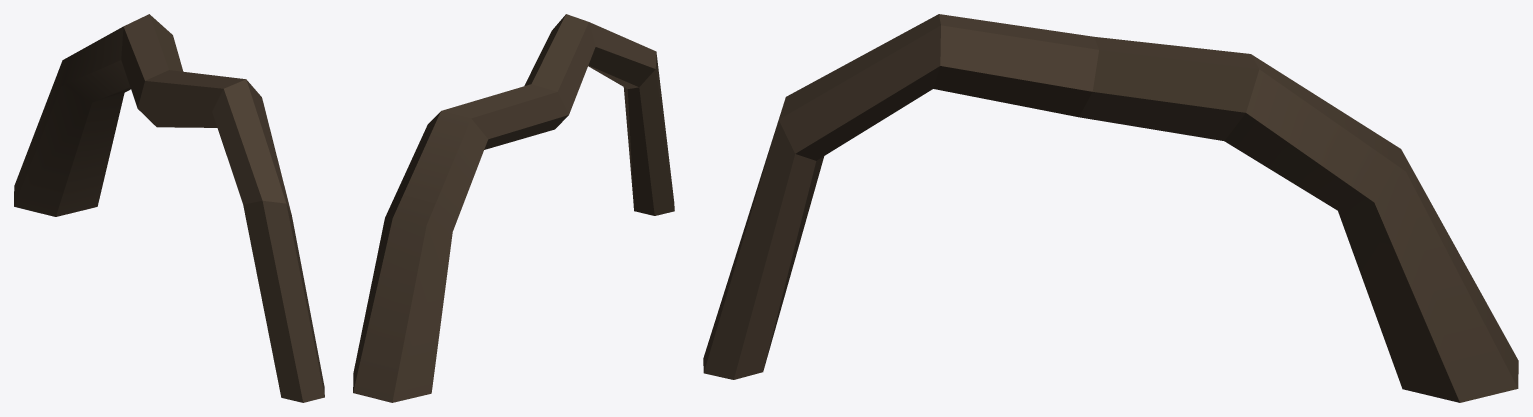
File: SM_Tree_Swamp_Root_01.glb
3 views of the same model, side by side, from view 1: azimuth 30°, elevation 25°; view 2: azimuth 150°, elevation 25°; view 3: azimuth 270°, elevation 25° (orthographic). The views are drawn at different scales.
Visible parts, largest first — view 1: SM_Tree_Swamp_Root_01; view 2: SM_Tree_Swamp_Root_01; view 3: SM_Tree_Swamp_Root_01.
Boxes of the visible parts, x1,y1,x2,y2 form: SM_Tree_Swamp_Root_01: [14, 14, 324, 402]; SM_Tree_Swamp_Root_01: [353, 14, 674, 402]; SM_Tree_Swamp_Root_01: [703, 14, 1518, 402].
Bounding box in the file's own units: 0.1875 × 0.4831 × 1.01.
1 material, 1 textured.
